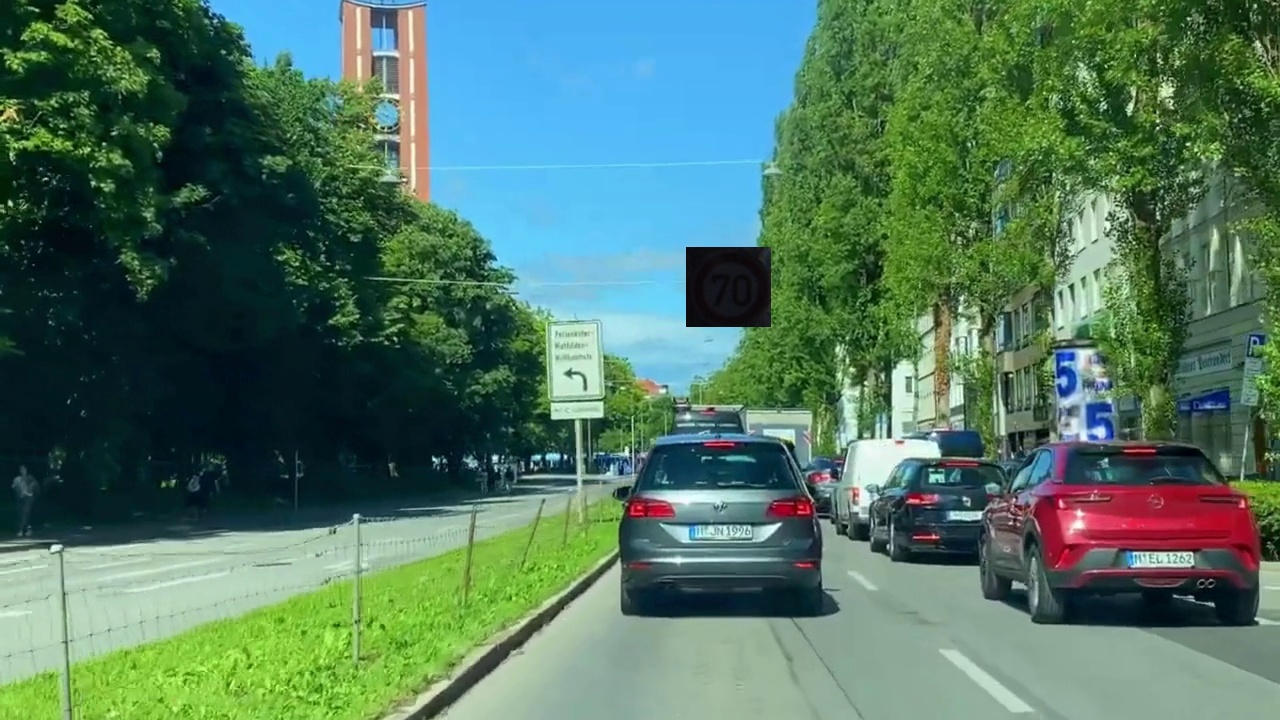Speed 70: (686, 247, 771, 327)
